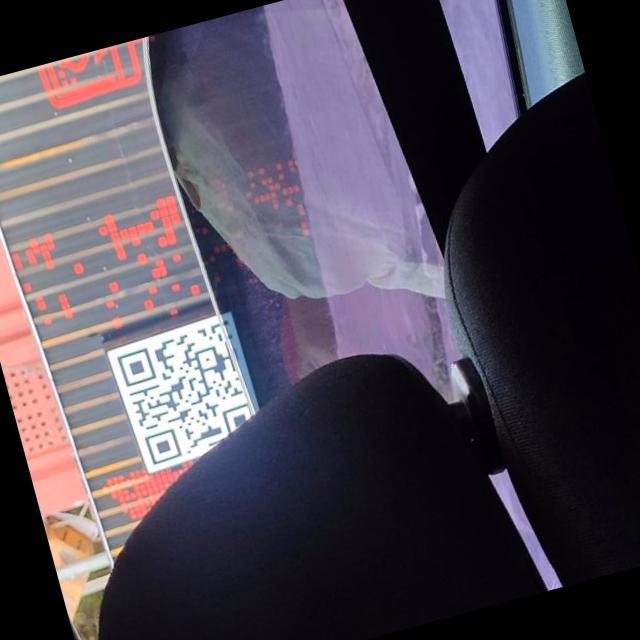qrcode: (115, 318, 261, 467)
